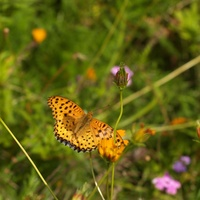Argyreus hyperbius: (45, 91, 129, 162)
butterfly: (47, 93, 131, 164)
